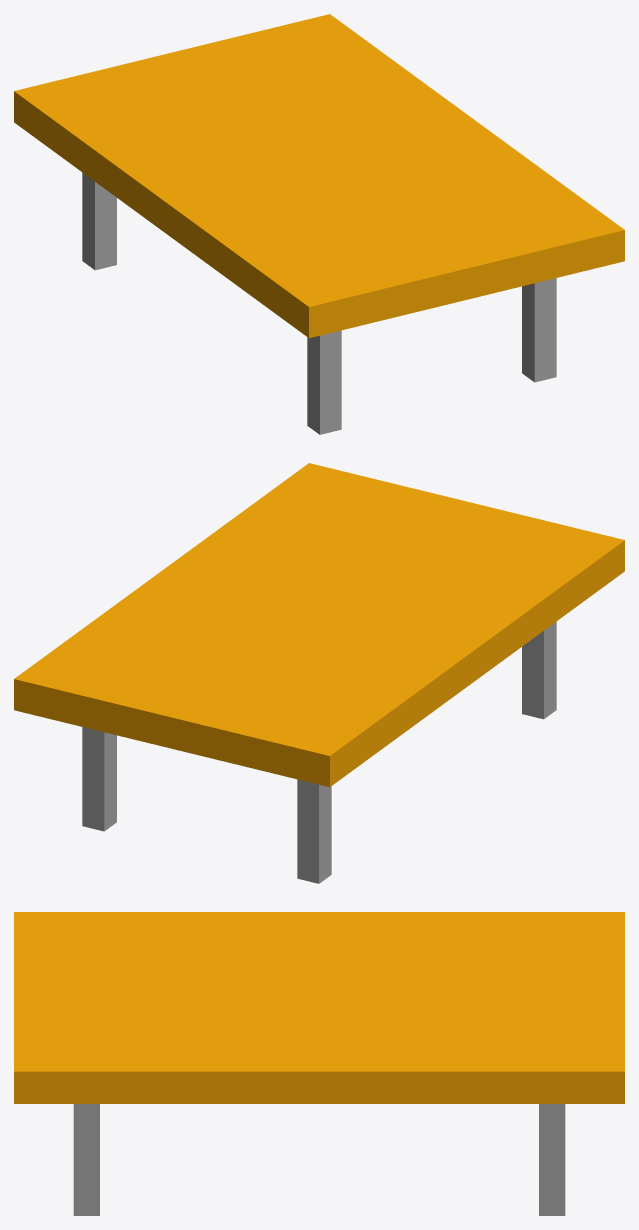
File: Table.fbx
3 renders of one model, top to bottom at view 1: azimuth 30°, elevation 25°; view 2: azimuth 150°, elevation 25°; view 3: azimuth 270°, elevation 25°, orthographic. The views are drawn at different scales.
Parts seen in each view (by area): view 1: Table; view 2: Table; view 3: Table.
Part boxes in pixels (x1,y1,x2,y2): Table: [14, 14, 624, 434]; Table: [14, 463, 624, 883]; Table: [14, 912, 624, 1215].
Size of the model in its own units: 1.46 by 0.7013 by 2.36.
